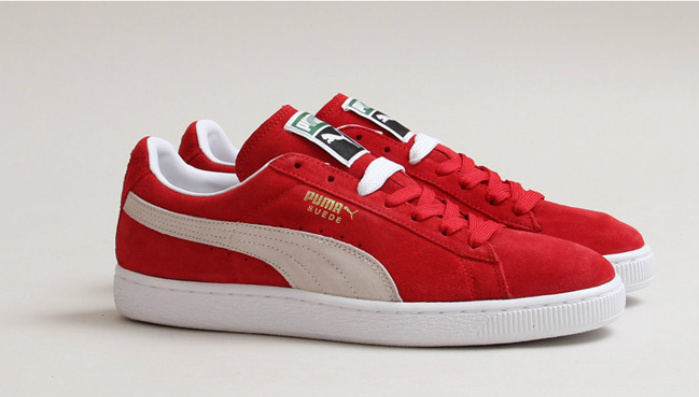Puma Suede Low Red: (104, 106, 628, 351)
